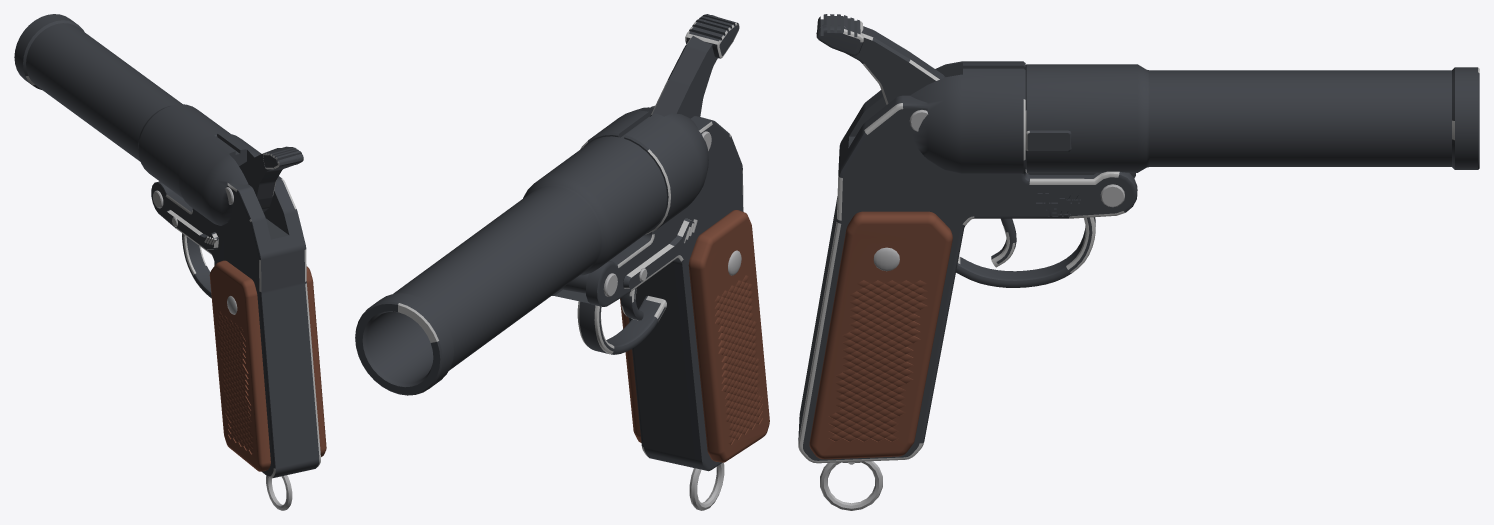
Rendered from flare_pistol.glb.
The picture shows the model from 3 angles, left to right: view 1: azimuth 30°, elevation 25°; view 2: azimuth 150°, elevation 25°; view 3: azimuth 270°, elevation 25°; orthographic projection. The views are drawn at different scales.
Visible parts, largest first — view 1: static_frame, barrels, hammer; view 2: static_frame, barrels, hammer; view 3: static_frame, barrels, hammer.
Boxes of the visible parts, <box> form: static_frame: <box>151,133,326,510</box>; barrels: <box>14,14,230,198</box>; hammer: <box>239,146,303,212</box>; static_frame: <box>552,105,769,510</box>; barrels: <box>355,136,666,395</box>; hammer: <box>650,14,739,118</box>; static_frame: <box>798,61,1137,510</box>; barrels: <box>1025,64,1479,174</box>; hammer: <box>816,14,945,104</box>.
Size of the model in its own units: 0.039 by 0.1841 by 0.2322.
